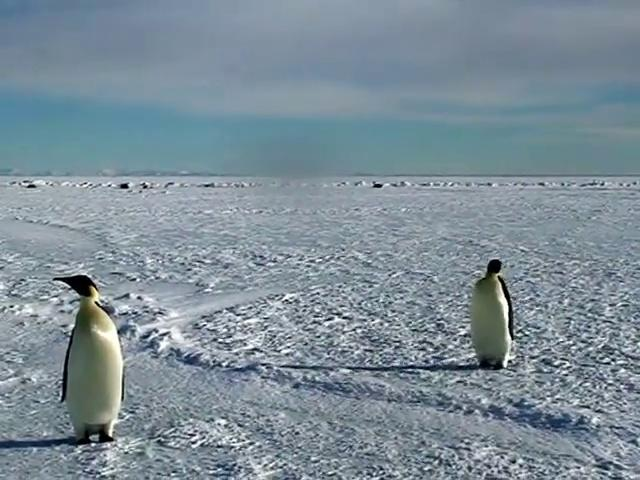animal: (54, 275, 123, 443)
